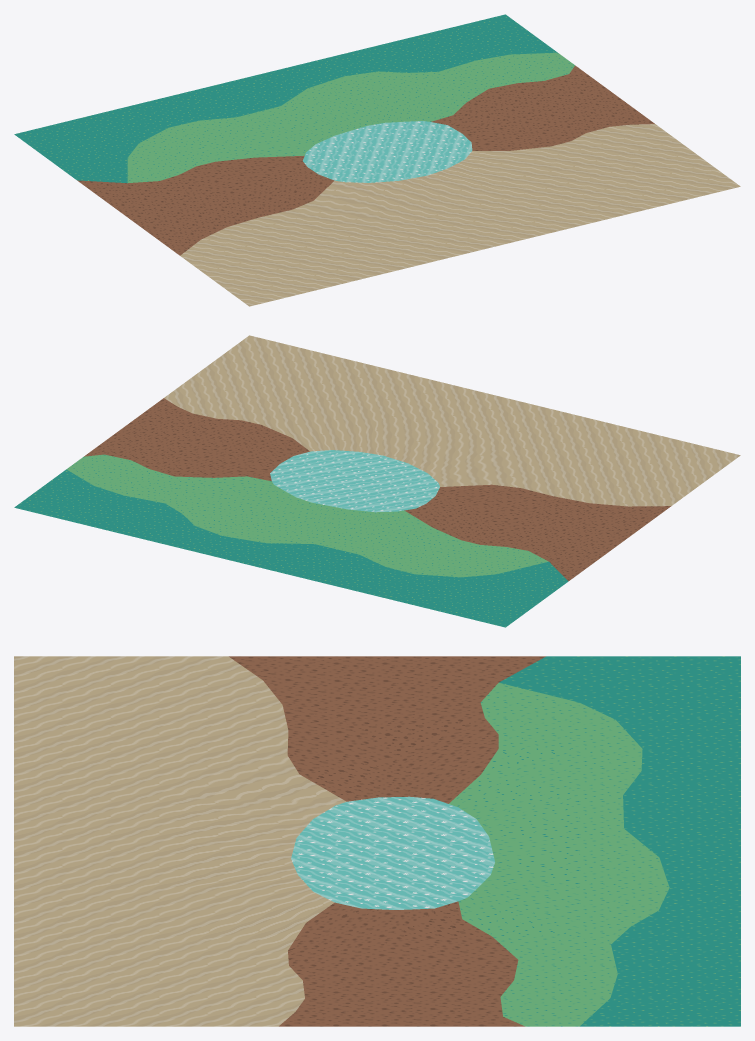
File: ground2.fbx
3 views of the same model, one above another, from view 1: azimuth 30°, elevation 25°; view 2: azimuth 150°, elevation 25°; view 3: azimuth 270°, elevation 25° (orthographic). The views are drawn at different scales.
Visible parts, largest first — view 1: Ground2; view 2: Ground2; view 3: Ground2.
Boxes of the visible parts, x1,y1,x2,y2 form: Ground2: (14,14,740,306); Ground2: (14,335,740,627); Ground2: (14,656,740,1026).
Bounding box in the file's own units: 4500 × 0.000608 × 3732.
Materials: 5 (5 with a texture image).
